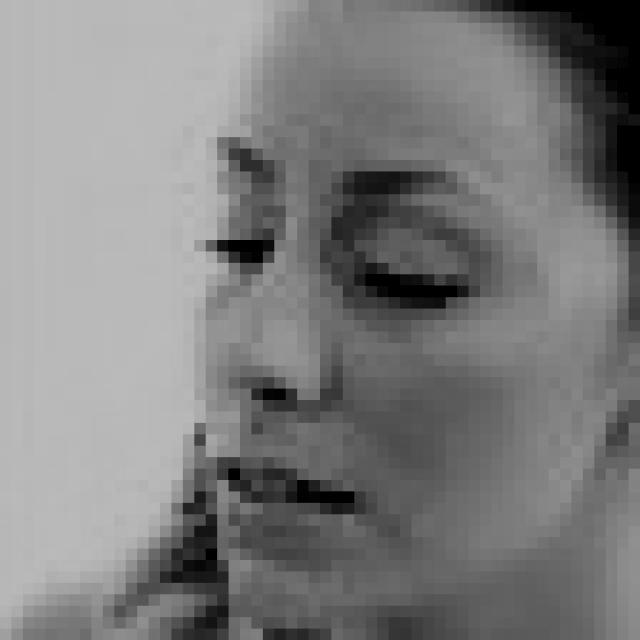real: (190, 4, 628, 626), (216, 169, 503, 324)
